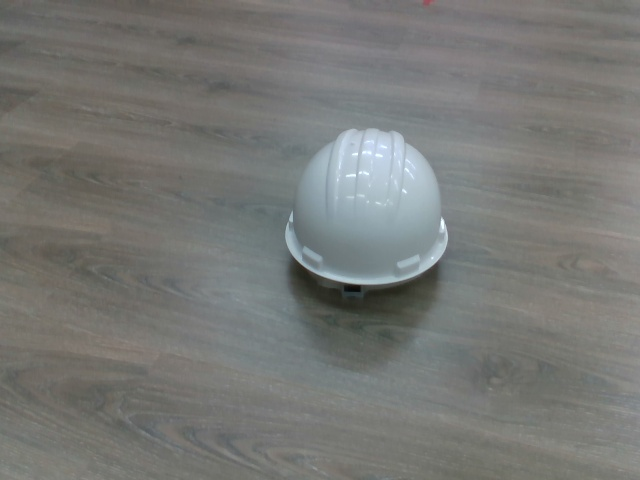helmet: (283, 125, 453, 299)
